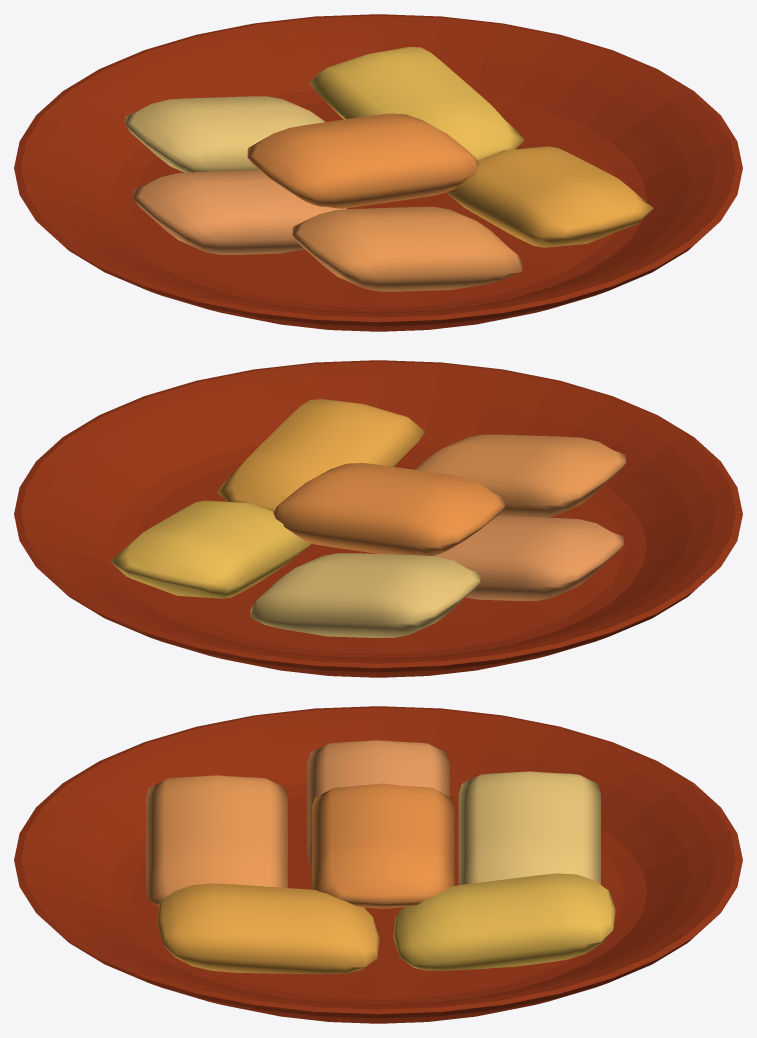
File: kue bantal pisang.fbx
3 renders of one model, top to bottom at view 1: azimuth 30°, elevation 25°; view 2: azimuth 150°, elevation 25°; view 3: azimuth 270°, elevation 25°, orthographic.
Parts seen in each view (by area): view 1: Cylinder, Cube.005, Cube.002, Cube.004, Cube.003, Cube, Cube.001; view 2: Cylinder, Cube.005, Cube.001, Cube.003, Cube.004, Cube.002, Cube; view 3: Cylinder, Cube.003, Cube.004, Cube.005, Cube.002, Cube.001, Cube.
Part boxes in pixels (bbox=[...]): Cylinder: bbox=[14, 14, 742, 331]; Cube.005: bbox=[247, 113, 478, 208]; Cube.002: bbox=[292, 206, 522, 291]; Cube.004: bbox=[446, 146, 653, 247]; Cube.003: bbox=[309, 46, 524, 160]; Cube: bbox=[133, 170, 347, 254]; Cube.001: bbox=[125, 96, 325, 172]; Cylinder: bbox=[14, 360, 742, 677]; Cube.005: bbox=[273, 463, 504, 556]; Cube.001: bbox=[250, 553, 480, 637]; Cube.003: bbox=[110, 500, 311, 598]; Cube.004: bbox=[217, 399, 424, 511]; Cube.002: bbox=[415, 434, 625, 517]; Cube: bbox=[434, 516, 623, 600]; Cylinder: bbox=[14, 706, 742, 1023]; Cube.003: bbox=[393, 873, 615, 970]; Cube.004: bbox=[157, 883, 379, 974]; Cube.005: bbox=[312, 783, 454, 908]; Cube.002: bbox=[146, 775, 287, 905]; Cube.001: bbox=[458, 771, 600, 885]; Cube: bbox=[307, 740, 449, 866].
Bounding box in the file's own units: 231 × 33.98 × 231.
